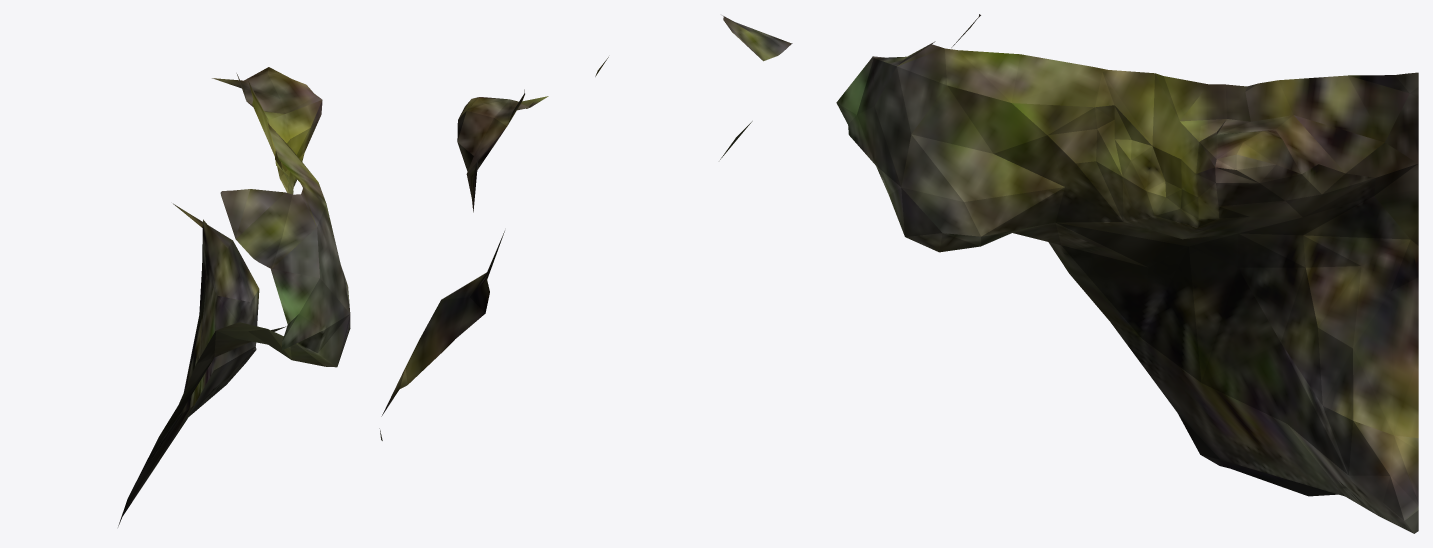
3 views of the same model, side by side, from view 1: azimuth 30°, elevation 25°; view 2: azimuth 150°, elevation 25°; view 3: azimuth 270°, elevation 25° (orthographic). The views are drawn at different scales.
Bounding box in the file's own units: 0.176 × 0.3233 × 0.3537.
1 material, 1 textured.
